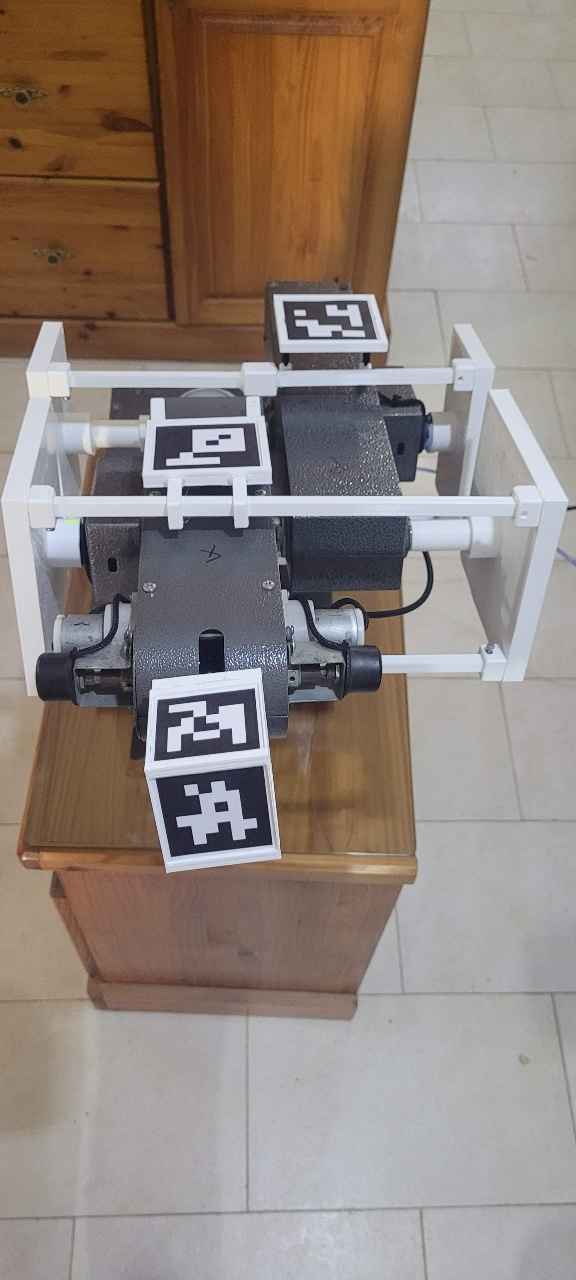Robot: (51, 155, 576, 1280)
